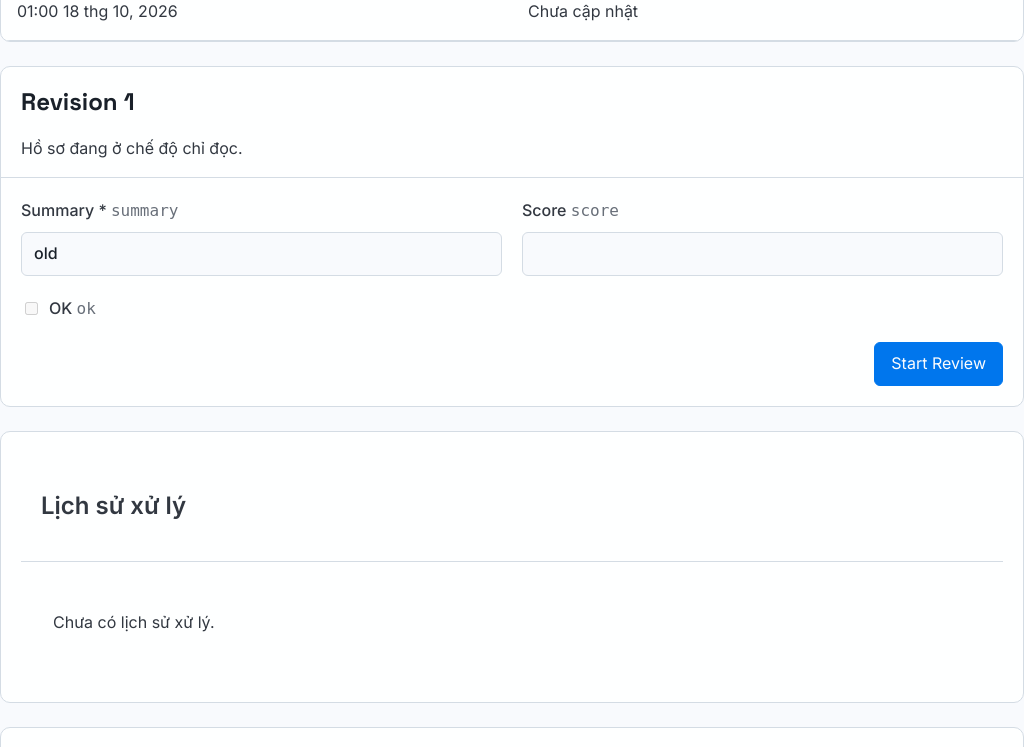
Scenario: Inspection Draft UI › shows assigned Reviewer actions and uses the fresh process rowVersion
(page scrolled)
Click the button "Start Review".
click(939, 364)  # box [874,342,1003,386]
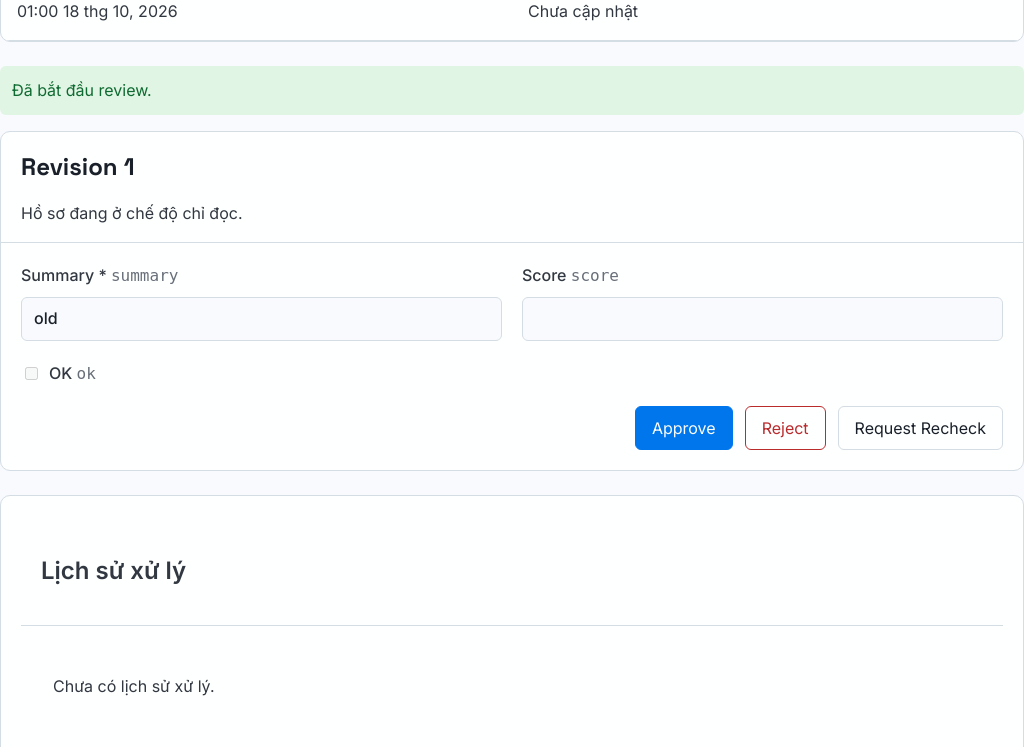
Click the button "Approve".
click(684, 428)  # box [635,406,733,450]
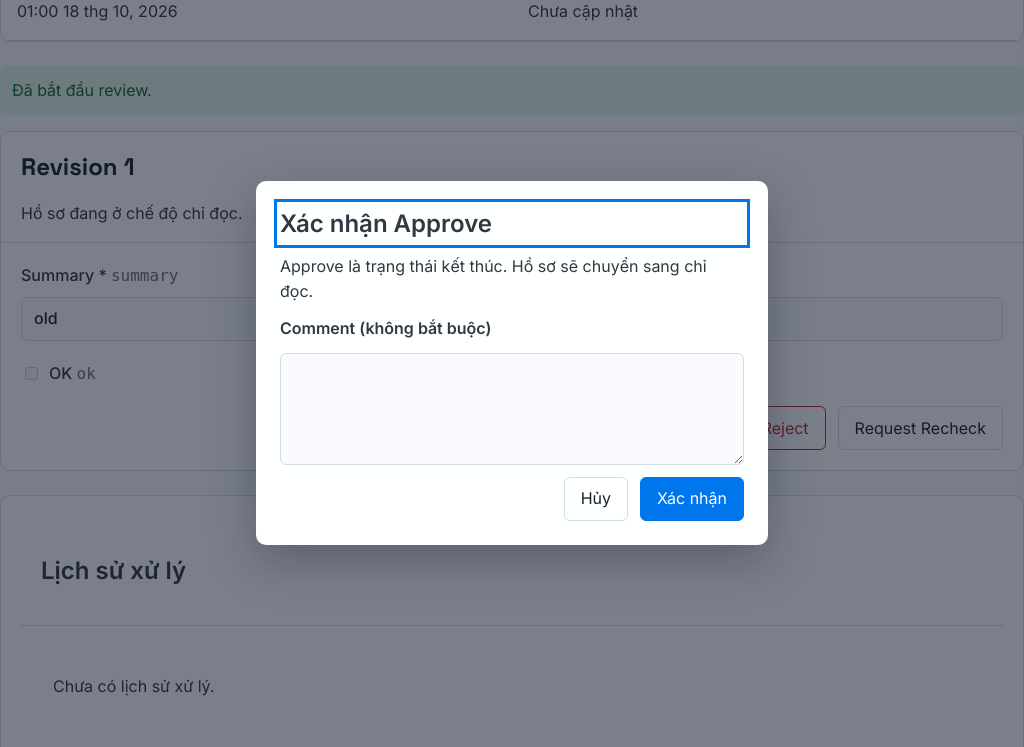
Click the button "Xác nhận".
click(692, 499)  # box [640,477,744,521]
(page scrolled)
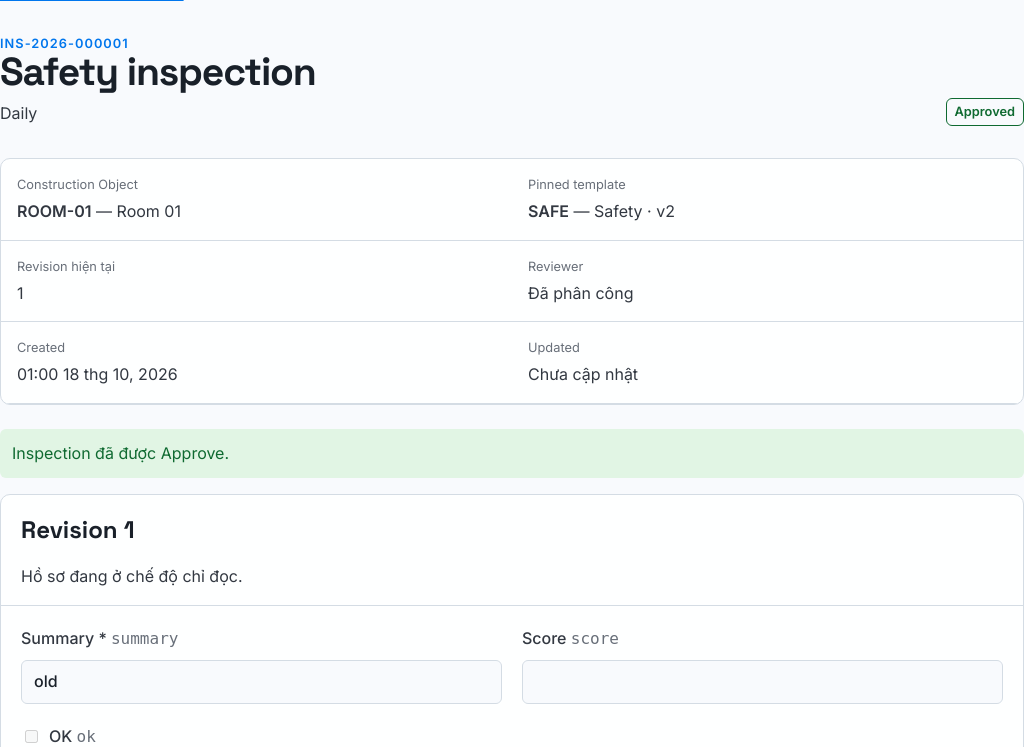
expect the text "Approved" is shown: met, box [946,98,1023,126]
expect the button "Reject" is gone: met
